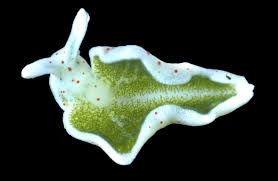slug: (23, 8, 254, 153)
